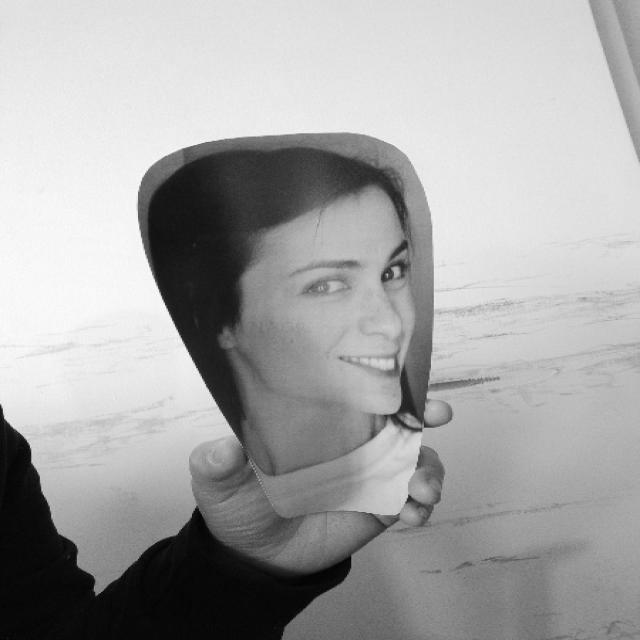fake: (134, 124, 486, 578)
